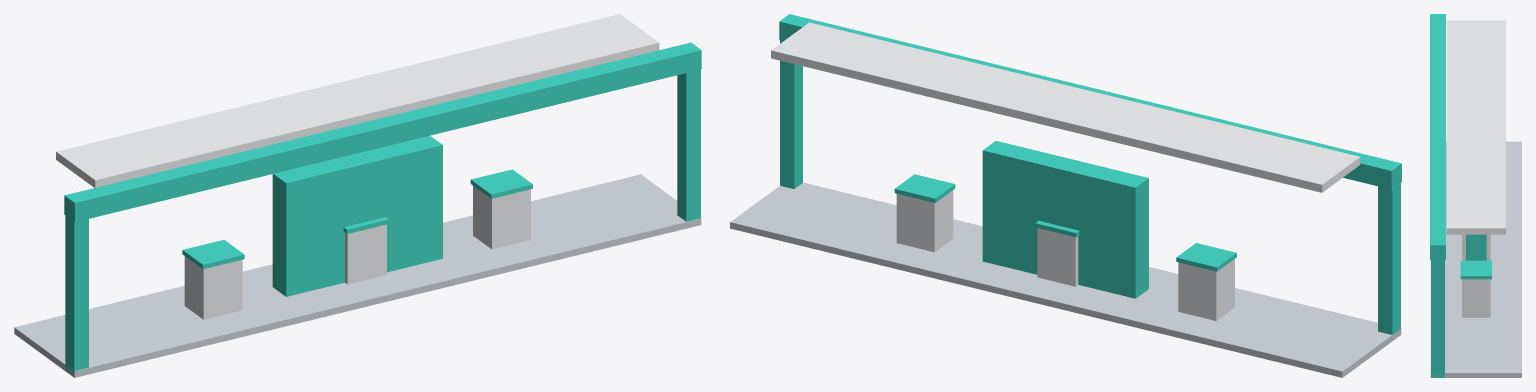
The picture shows the model from 3 angles, left to right: view 1: azimuth 30°, elevation 25°; view 2: azimuth 150°, elevation 25°; view 3: azimuth 270°, elevation 25°; orthographic projection. The views are drawn at different scales.
Visible parts, largest first — view 1: Exhibition Booth Concept; view 2: Exhibition Booth Concept; view 3: Exhibition Booth Concept.
Part boxes in pixels (<box>): Exhibition Booth Concept: <box>14,14,701,377</box>; Exhibition Booth Concept: <box>730,14,1401,377</box>; Exhibition Booth Concept: <box>1430,14,1521,377</box>.
Size of the model in its own units: 12 by 3.34 by 2.01.
